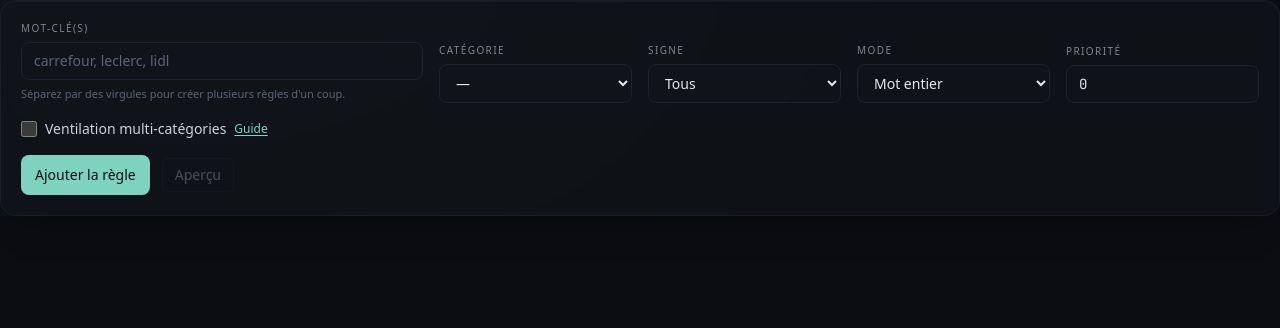
Scenario: RuleCreateForm › previews the transactions a draft rule would match, without submitting
In the field labelled "Mot-clé(s)": [222, 61] box [21, 42, 423, 80], type "carrefour"
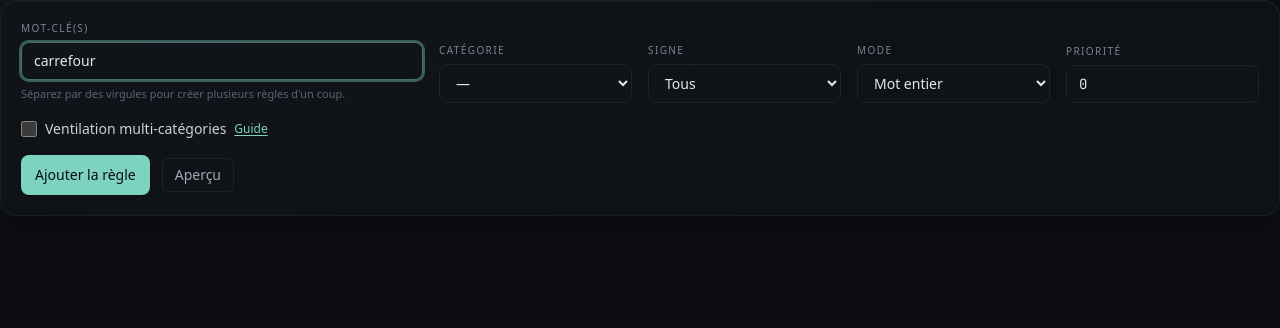
Click the button "Aperçu": [198, 174] box [162, 158, 234, 192]
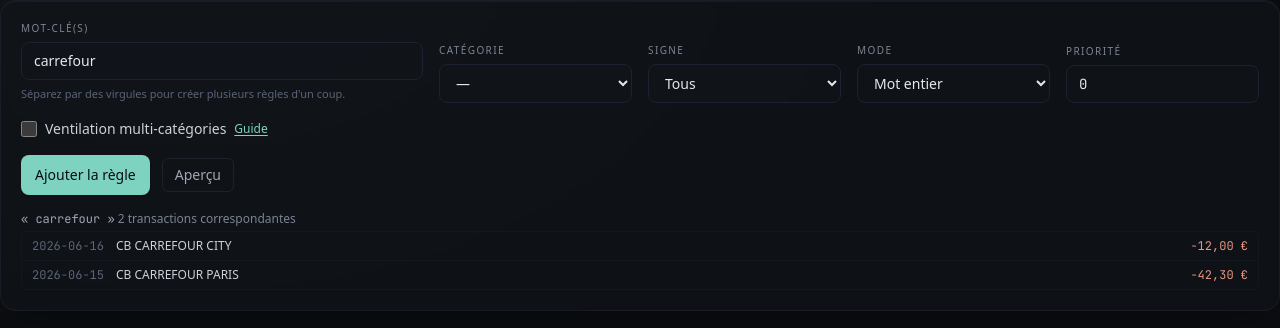
Now the text "CB CARREFOUR CITY" is shown, box [116, 236, 231, 254]
Now the text "CB CARREFOUR PARIS" is shown, box [116, 266, 239, 282]
Now the text "2 transactions correspondantes" is shown, box [118, 210, 296, 226]
